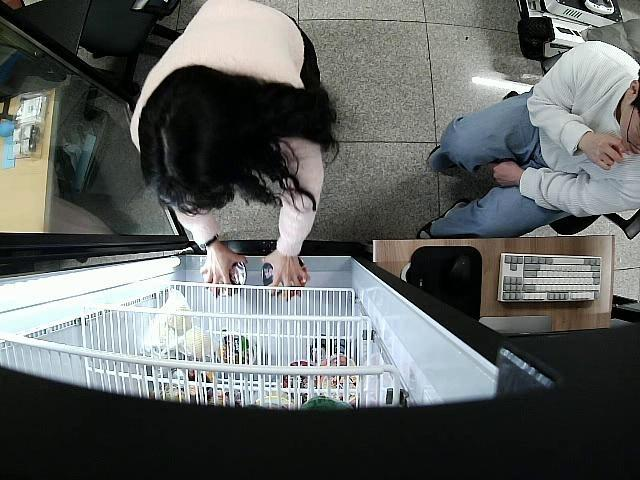07_buldak_L: (262, 258, 308, 302), (200, 258, 247, 301)
